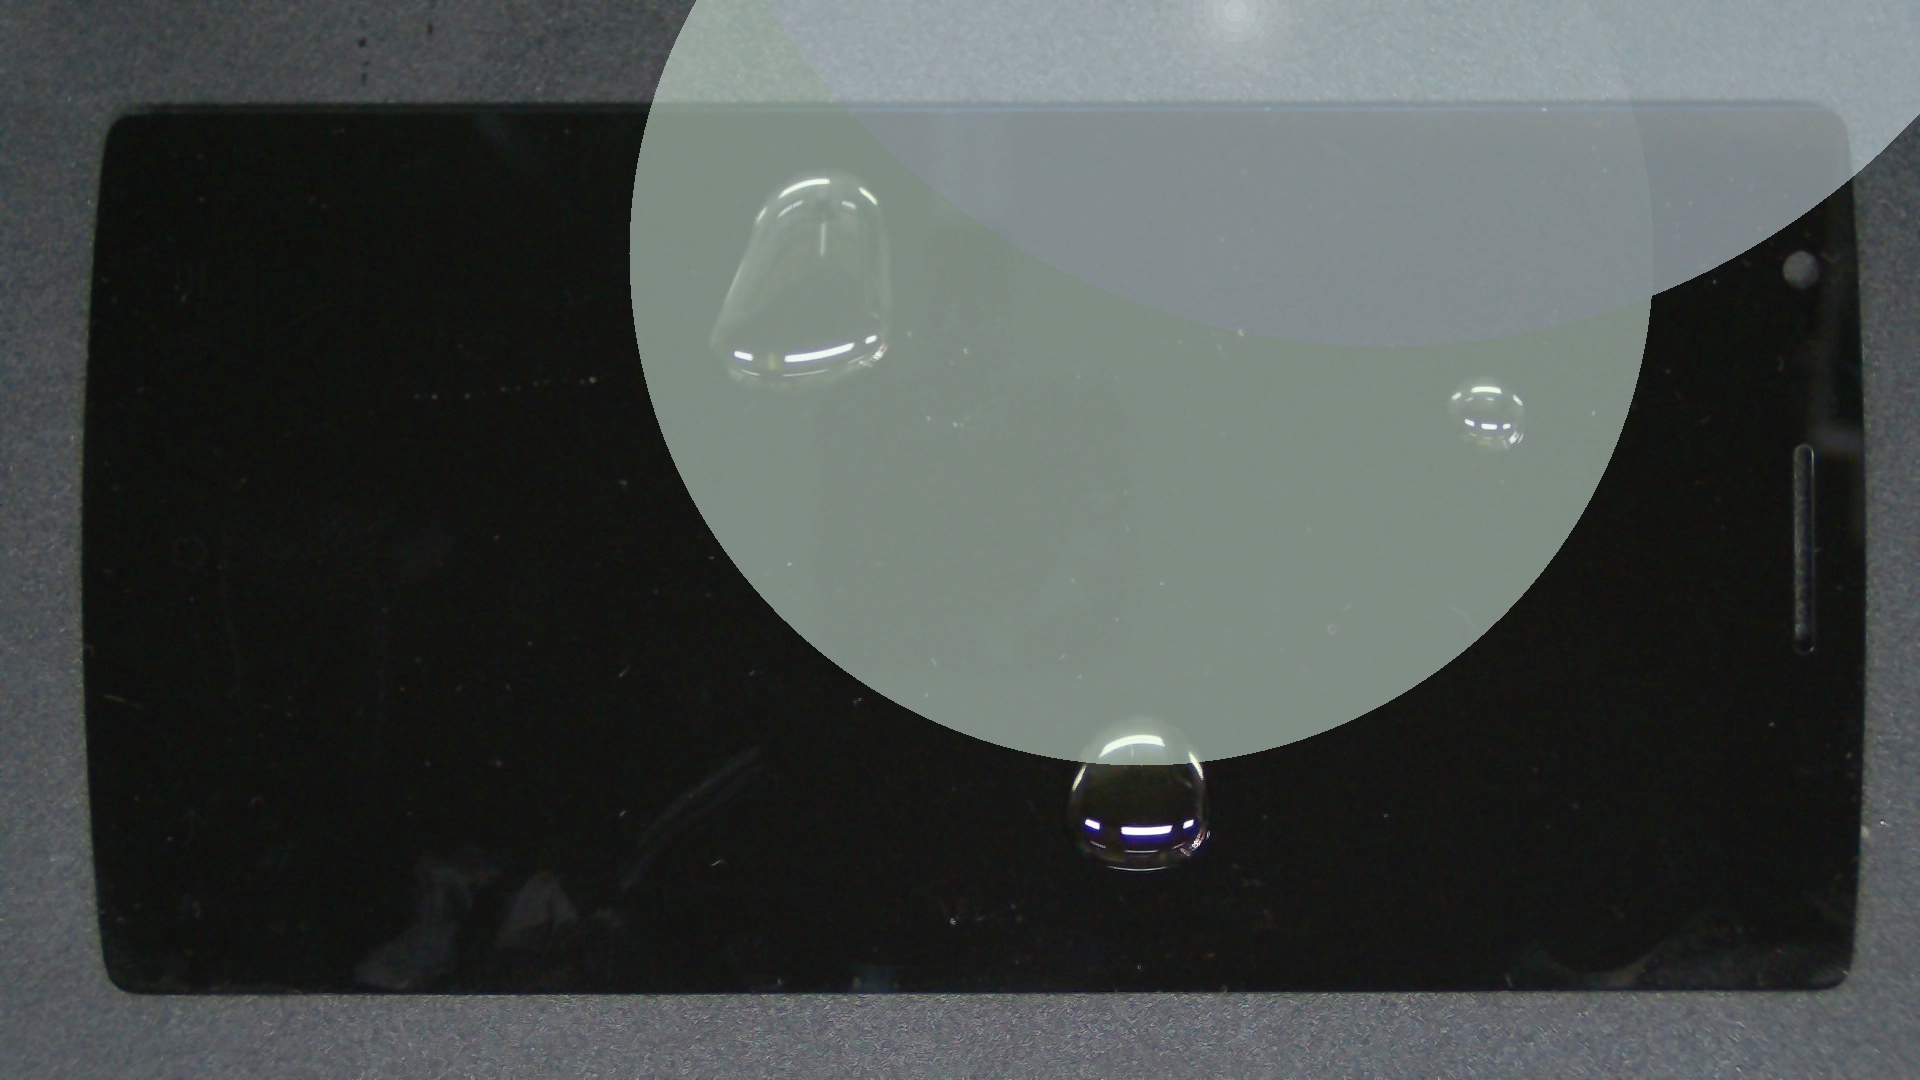oil: (579, 357, 1735, 1073), (740, 186, 1920, 562), (418, 86, 1251, 258)
